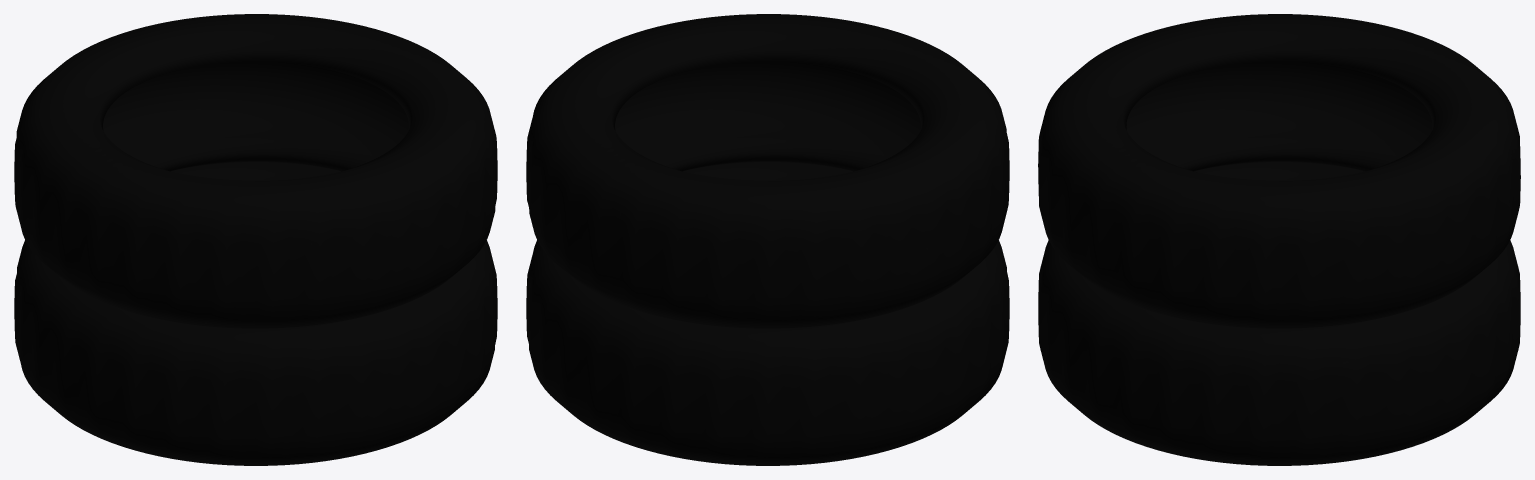
Rendered from obj_tire_stack.glb.
The picture shows the model from 3 angles, left to right: view 1: azimuth 30°, elevation 25°; view 2: azimuth 150°, elevation 25°; view 3: azimuth 270°, elevation 25°; orthographic projection.
Visible parts, largest first — view 1: tire_stack_body; view 2: tire_stack_body; view 3: tire_stack_body.
Boxes of the visible parts, x1,y1,x2,y2 form: tire_stack_body: (14, 14, 497, 465); tire_stack_body: (526, 14, 1009, 465); tire_stack_body: (1038, 14, 1520, 465).
Size of the model in its own units: 0.6309 by 0.39 by 0.6309.
1 material, 1 textured.
